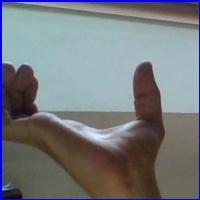B: (0, 48, 172, 187)
